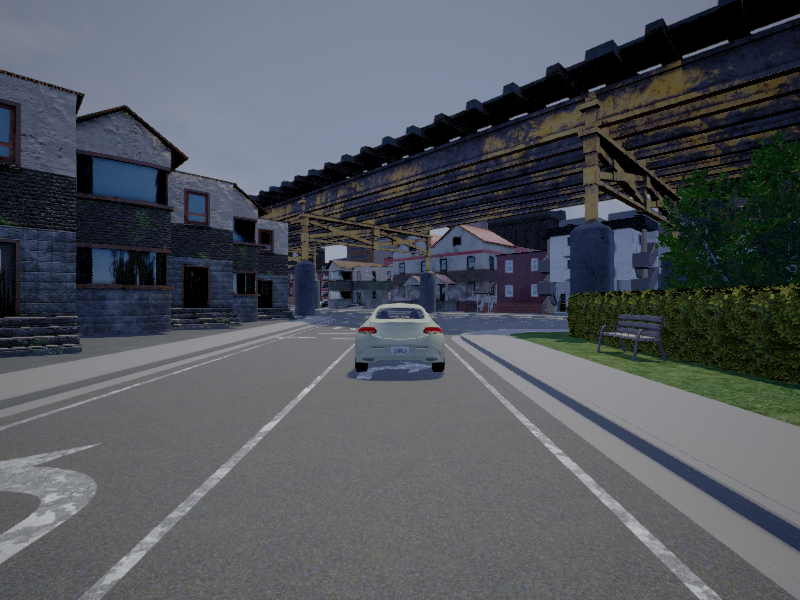Benign: (355, 303, 446, 374)
